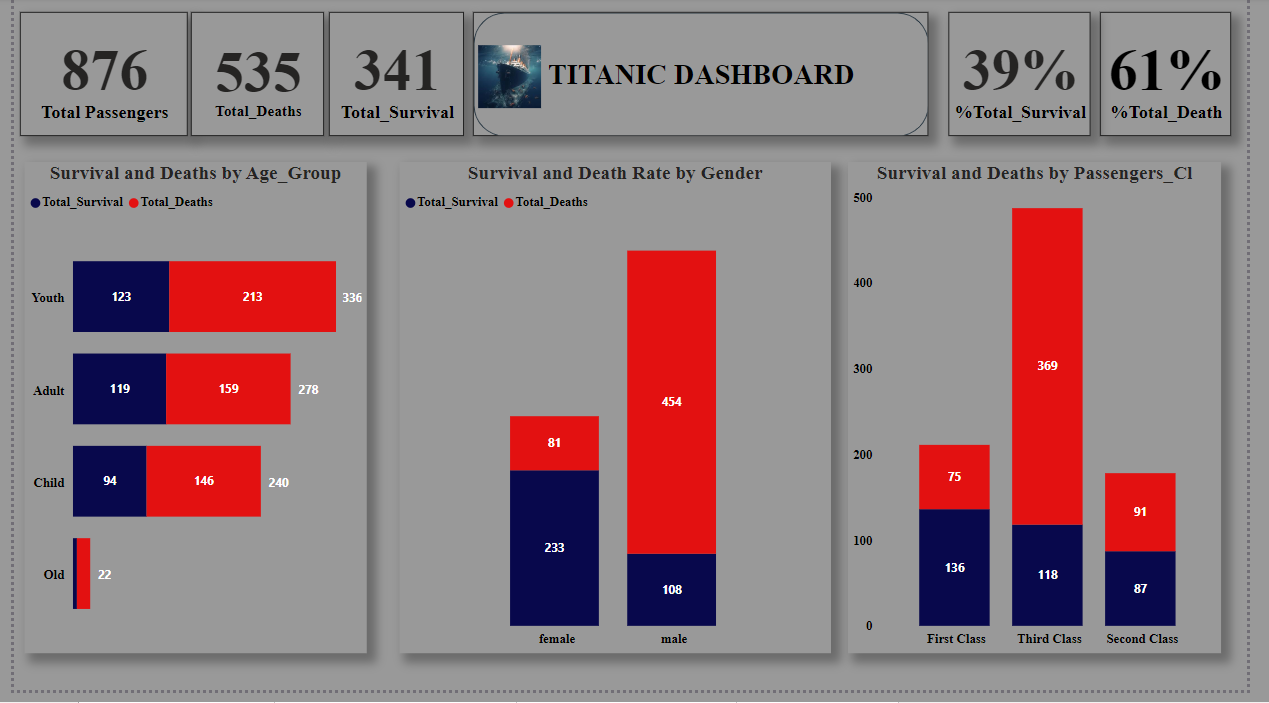

What the dashboard file says about the page in this screenshot:
{"tool":"powerbi","page":{"name":"Survival Analysis","canvas":[1280,720],"ordinal":0},"visuals":[{"type":"card","fields":{"Values":["CountNonNull(Titanic - Titanic.Name)"]},"box":[5.7,15.1,173.9,128.5],"z":0},{"type":"card","fields":{"Values":["Titanic - Titanic.Total_Deaths"]},"box":[183.3,15.1,138,128.5],"z":1000},{"type":"card","fields":{"Values":["Titanic - Titanic.Total_Survival"]},"box":[326.9,15.1,139.8,128.5],"z":2000},{"type":"card","fields":{"Values":["Titanic - Titanic.%Total_Death"]},"box":[1128.2,15.1,136.1,128.5],"z":3000},{"type":"card","fields":{"Values":["Titanic - Titanic.%Total_Survival"]},"box":[969.5,15.1,147.4,128.5],"z":4000},{"type":"columnChart","title":"Survival and Death Rate  by Gender","fields":{"Category":["Titanic - Titanic.Sex"],"Y":["Titanic - Titanic.Total_Survival","Titanic - Titanic.Total_Deaths"]},"box":[400.6,172,447.9,510.2],"z":5000},{"type":"columnChart","title":"Survival and Deaths by Passengers_Cl","fields":{"Y":["Titanic - Titanic.Total_Survival","Titanic - Titanic.Total_Deaths"],"Category":["Titanic - Titanic.Passengers_Cl"]},"box":[865.5,172,387.4,510.2],"z":6000},{"type":"barChart","title":"Survival and Deaths by Age_Group","fields":{"Category":["Titanic - Titanic.Age_G"],"Y":["Titanic - Titanic.Total_Survival","Titanic - Titanic.Total_Deaths"]},"box":[11.3,172,355.3,510.2],"z":7000},{"type":"shape","box":[476.2,15.1,472.4,128.5],"z":8000},{"type":"image","box":[476.2,28.3,75.6,109.6],"z":9000}]}

Visuals, with their boxes in screenshot pixels (x1, y1, x2, y2), scaled from the page's 1280x720 canvas onto the 1269x703 screenshot:
card - CountNonNull(Titanic - Titanic.Name): bbox=[6, 15, 178, 140]
card - Titanic - Titanic.Total_Deaths: bbox=[182, 15, 319, 140]
card - Titanic - Titanic.Total_Survival: bbox=[324, 15, 463, 140]
card - Titanic - Titanic.%Total_Death: bbox=[1119, 15, 1253, 140]
card - Titanic - Titanic.%Total_Survival: bbox=[961, 15, 1107, 140]
"Survival and Death Rate  by Gender" columnChart: bbox=[397, 168, 841, 666]
"Survival and Deaths by Passengers_Cl" columnChart: bbox=[858, 168, 1242, 666]
"Survival and Deaths by Age_Group" barChart: bbox=[11, 168, 363, 666]
shape: bbox=[472, 15, 940, 140]
image: bbox=[472, 28, 547, 135]
